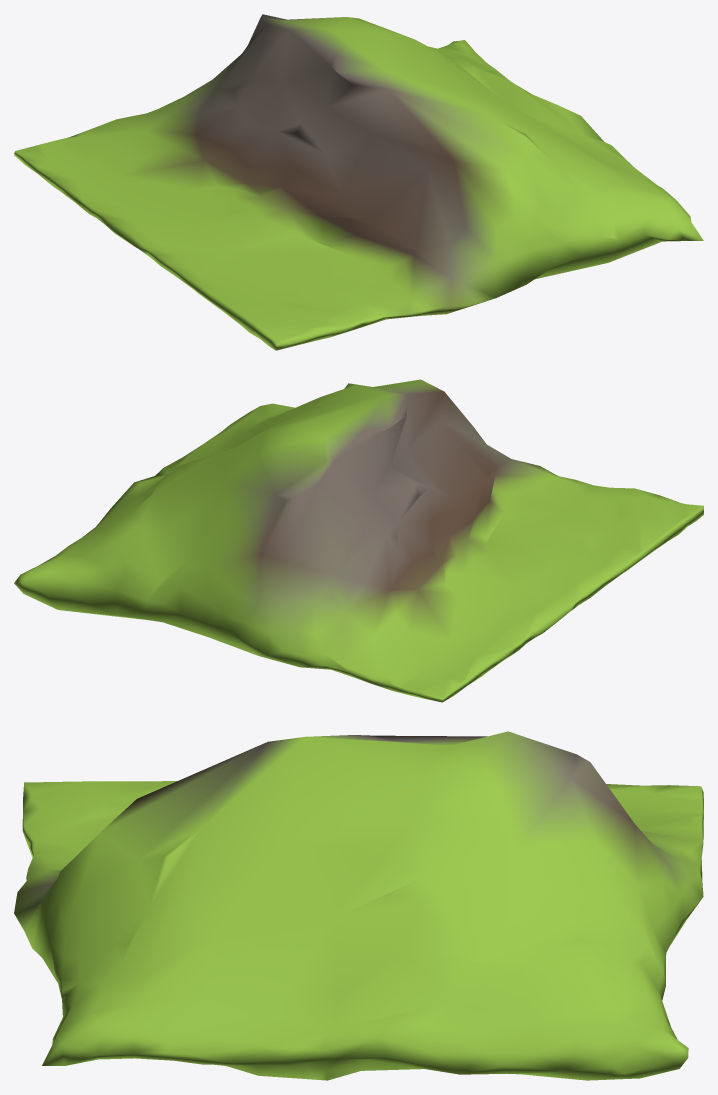
The model's file is hill_side.fbx.
3 renders of one model, top to bottom at view 1: azimuth 30°, elevation 25°; view 2: azimuth 150°, elevation 25°; view 3: azimuth 270°, elevation 25°, orthographic. The views are drawn at different scales.
Visible parts, largest first — view 1: Box; view 2: Box; view 3: Box.
Boxes of the visible parts, bbox=[...] form: Box: bbox=[14, 14, 703, 350]; Box: bbox=[14, 379, 703, 702]; Box: bbox=[14, 731, 703, 1080].
Size of the model in its own units: 2813 by 1111 by 2917.
